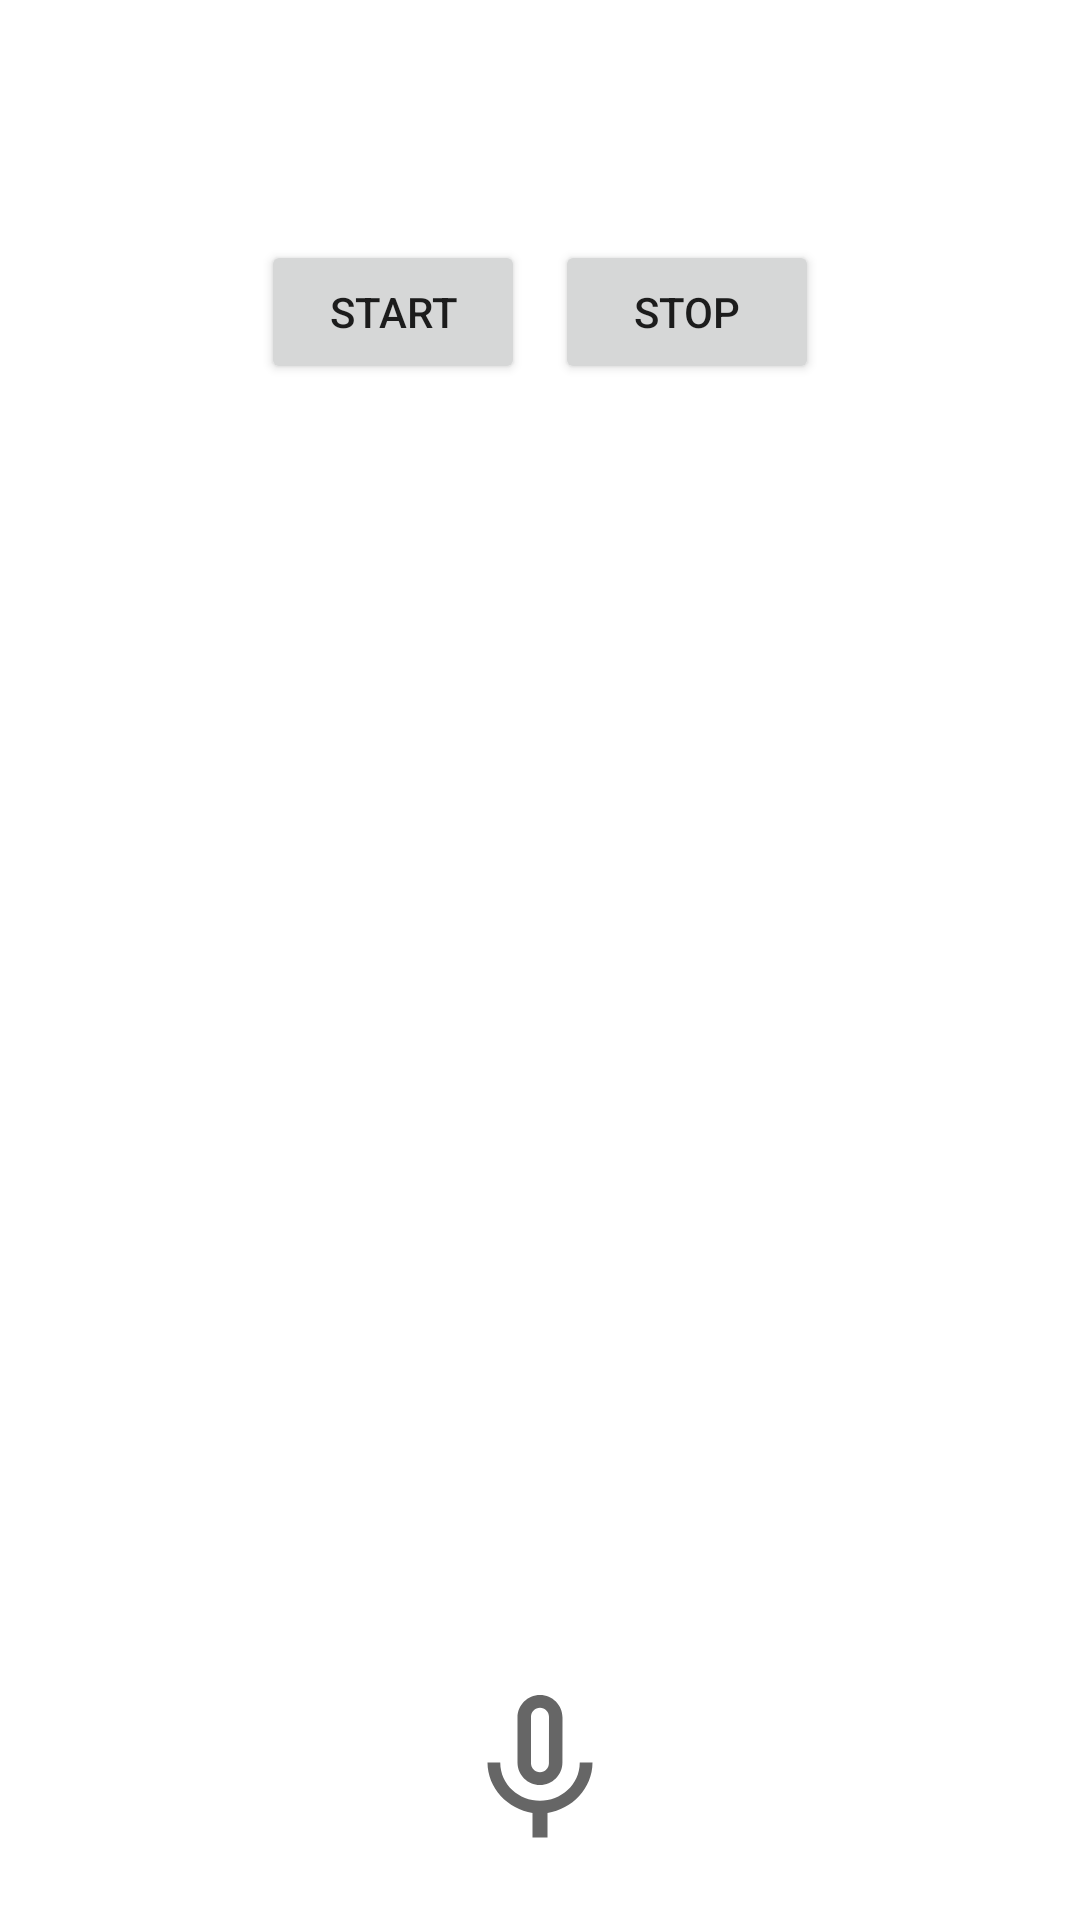

Screen size 1080px×1920px. Icon name, then its box in pixels as bbox(x1, y1, x2, y2):
mic: bbox(487, 1695, 593, 1838)
